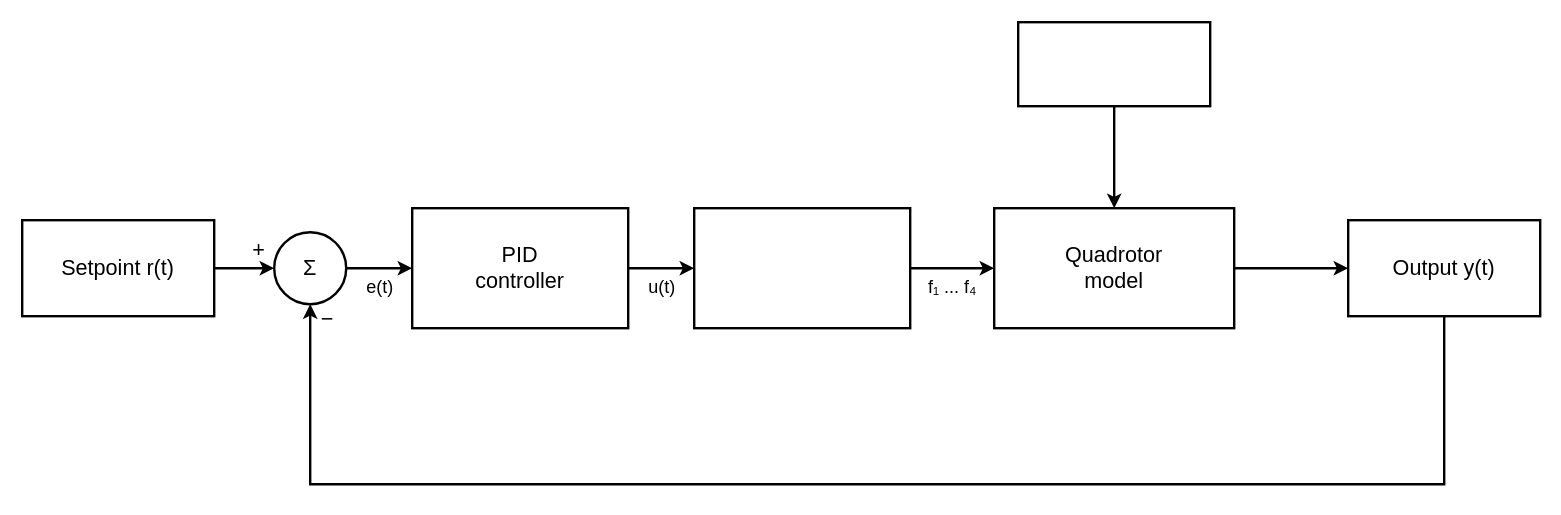
This 1561x515 diagram has some shape labels left out. Here are the shapes that lost their labels. From the top down, the centre of each, then its label:
At point (1113, 63): "Disturbances d(t)".
At point (801, 267): "Motor mixer".
At point (844, 466): "simulated altitude and attitude".
